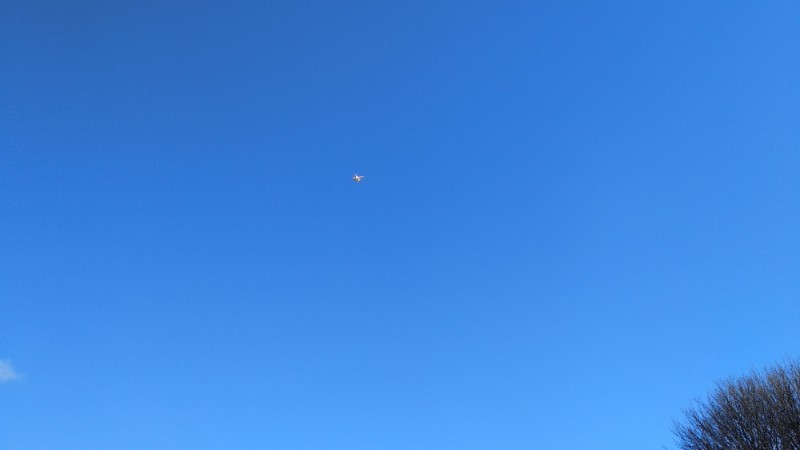drone: (350, 171, 365, 185)
